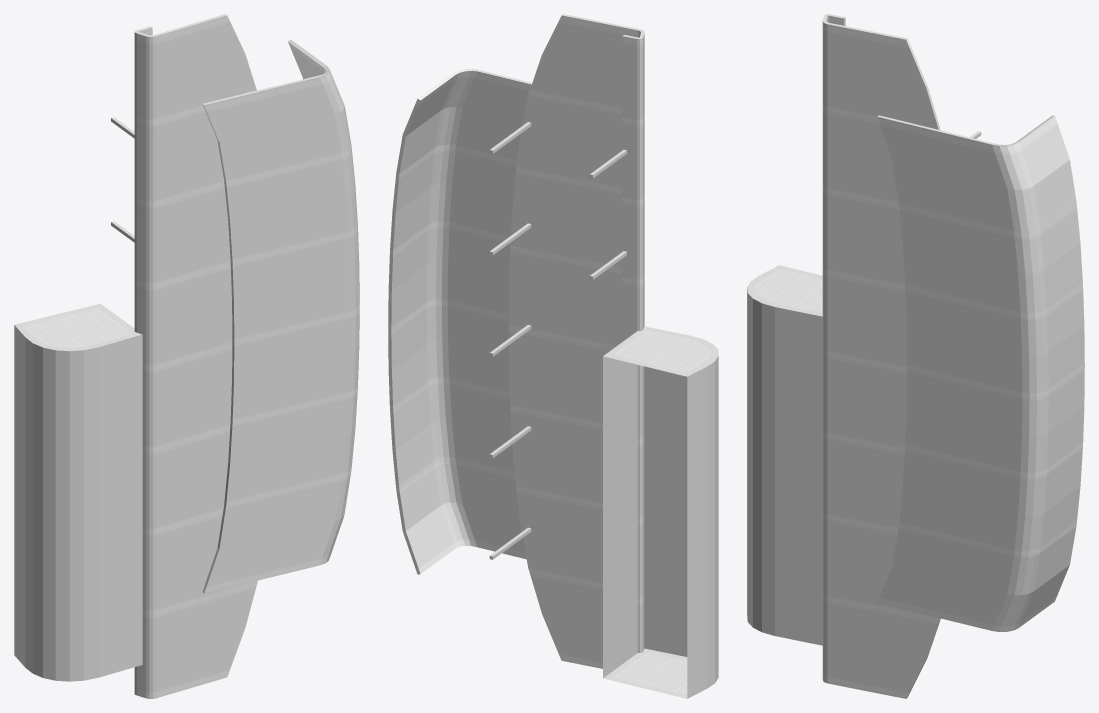
3 views of the same model, side by side, from view 1: azimuth 30°, elevation 25°; view 2: azimuth 150°, elevation 25°; view 3: azimuth 330°, elevation 25° (orthographic). The views are drawn at different scales.
Parts seen in each view (by area): view 1: 立方体.001, 平面, 平面.001; view 2: 平面, 立方体.001, 平面.001, 立方体.007; view 3: 立方体.001, 平面, 平面.001.
Boxes of the visible parts, x1,y1,x2,y2 form: 立方体.001: (202, 39, 359, 593); 平面: (134, 14, 257, 698); 平面.001: (14, 303, 142, 681); 平面: (509, 14, 644, 668); 立方体.001: (388, 69, 532, 574); 平面.001: (603, 326, 718, 698); 立方体.007: (489, 122, 626, 559); 立方体.001: (877, 115, 1084, 631); 平面: (822, 14, 940, 698); 平面.001: (747, 265, 822, 645).
Size of the model in its own units: 47.04 by 95.44 by 12.2.
Materials: 3 (3 with a texture image).
